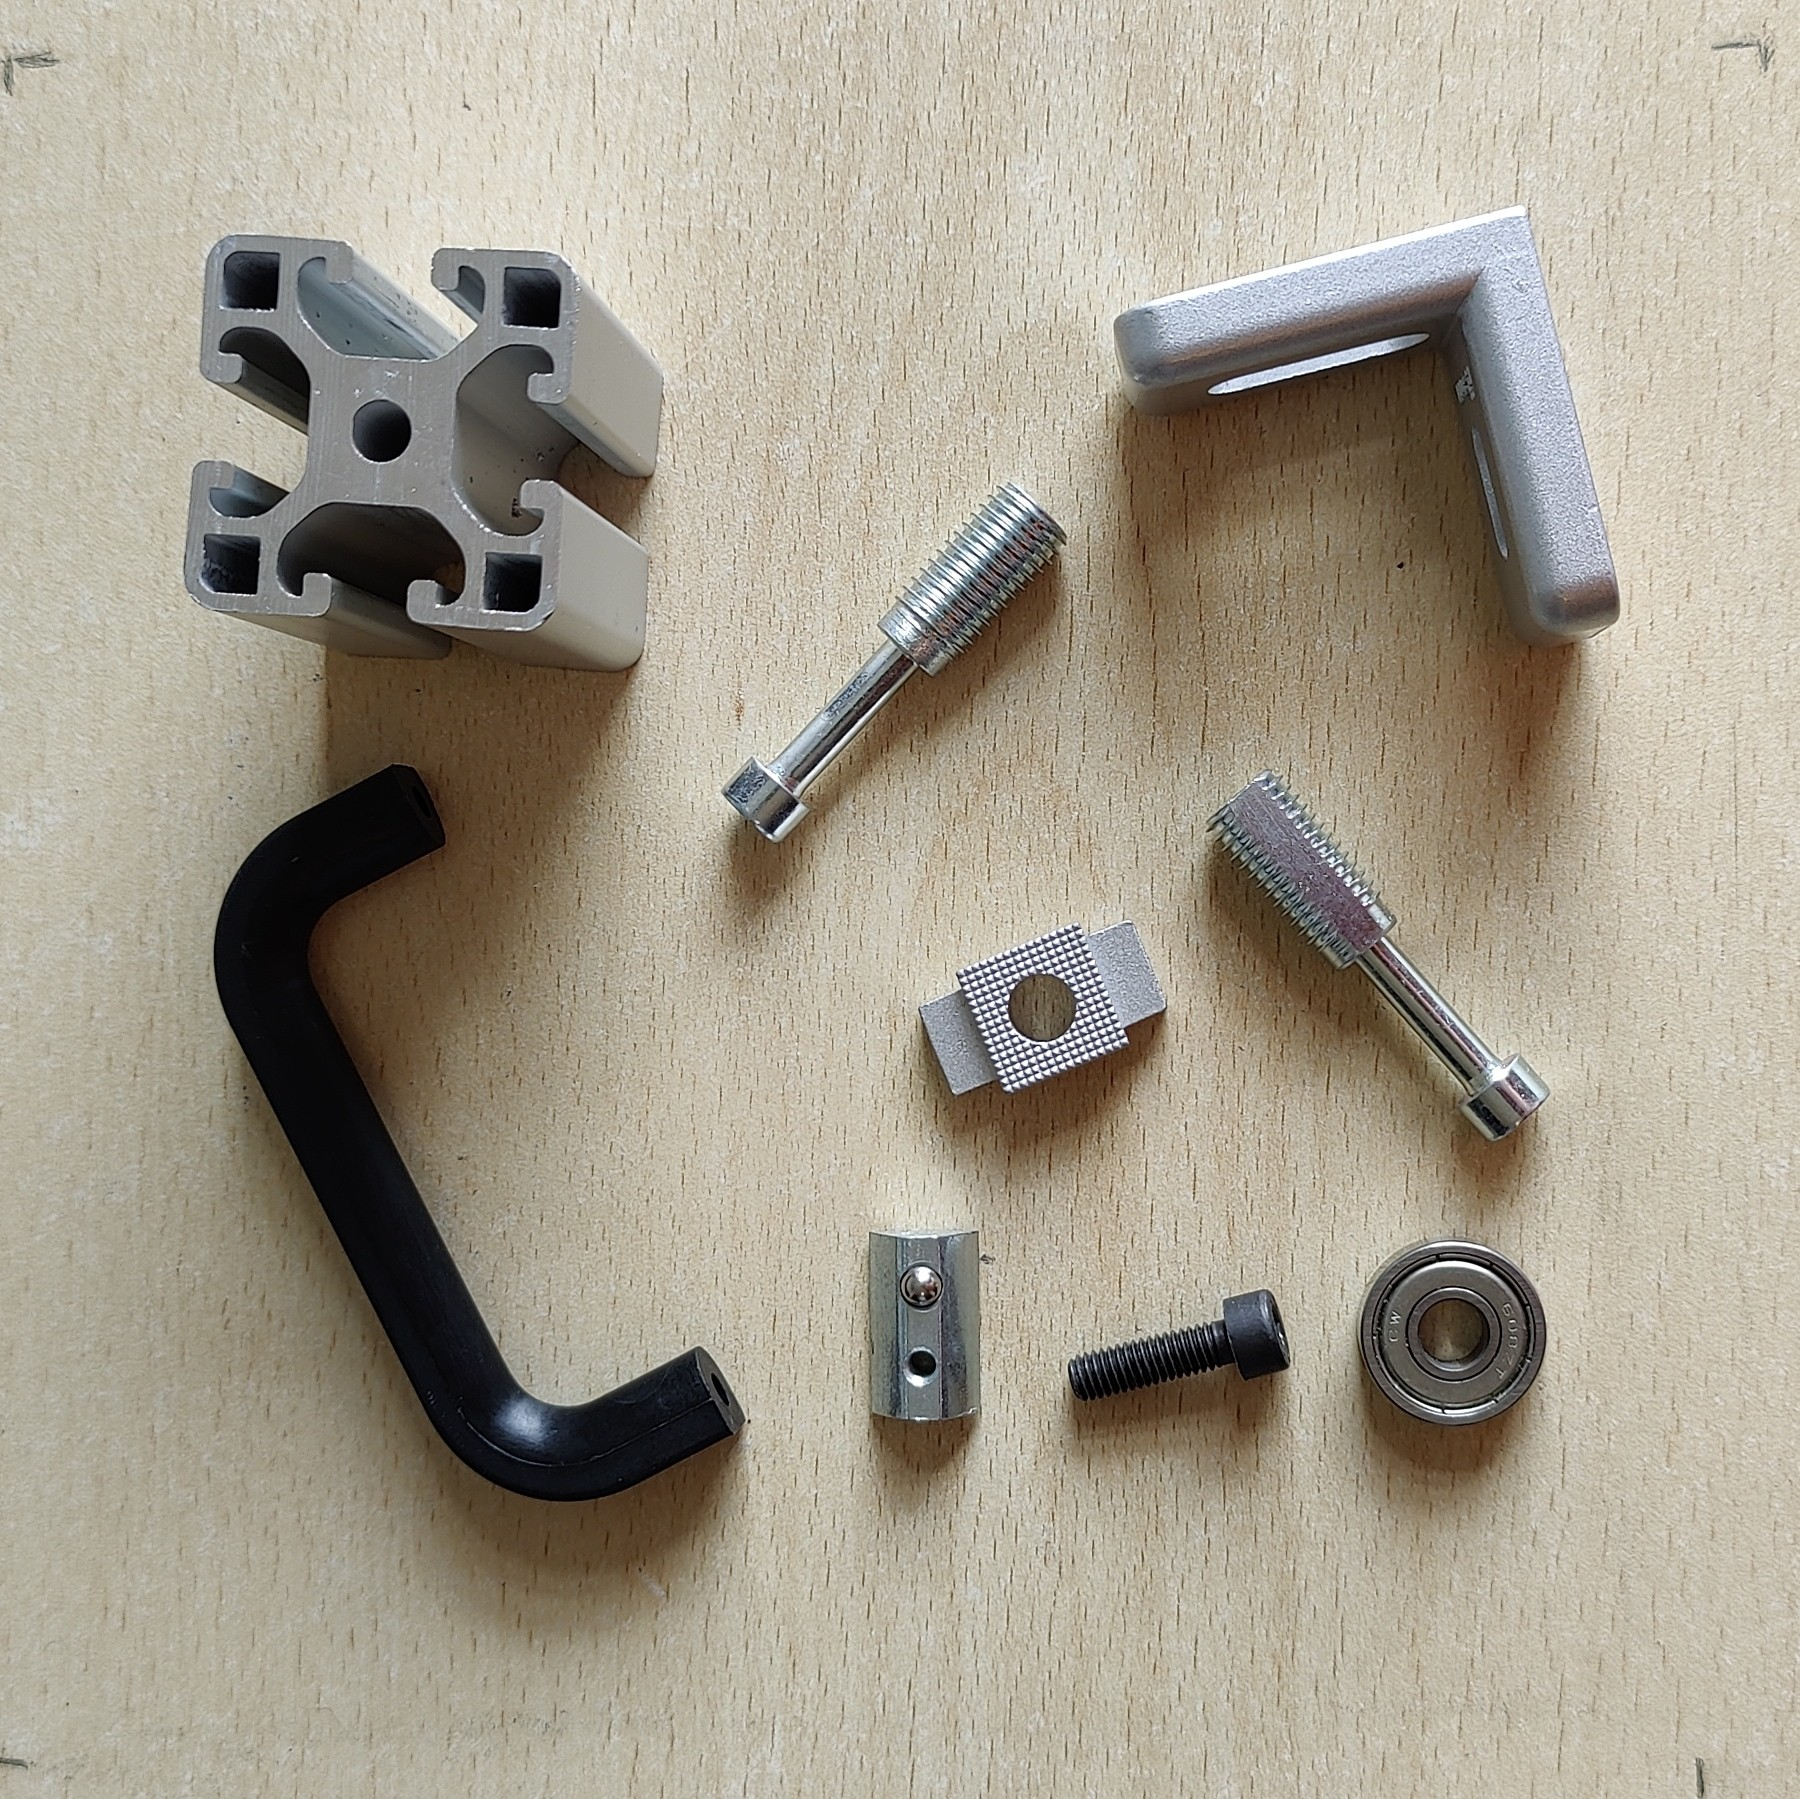Aluminium Extension: (183, 231, 665, 675)
Ball Bearing: (1359, 1234, 1548, 1428)
Multiwinkel: (1113, 204, 1624, 652)
Pull Handle: (209, 758, 749, 1504)
Shoulder Socket Head Cap Screw: (1204, 768, 1551, 1147), (720, 478, 1070, 848)
Socket Head Cap Screw: (1066, 1285, 1294, 1404)
T Nut Square: (916, 918, 1171, 1100)
T Spring Nut: (863, 1226, 985, 1425)
